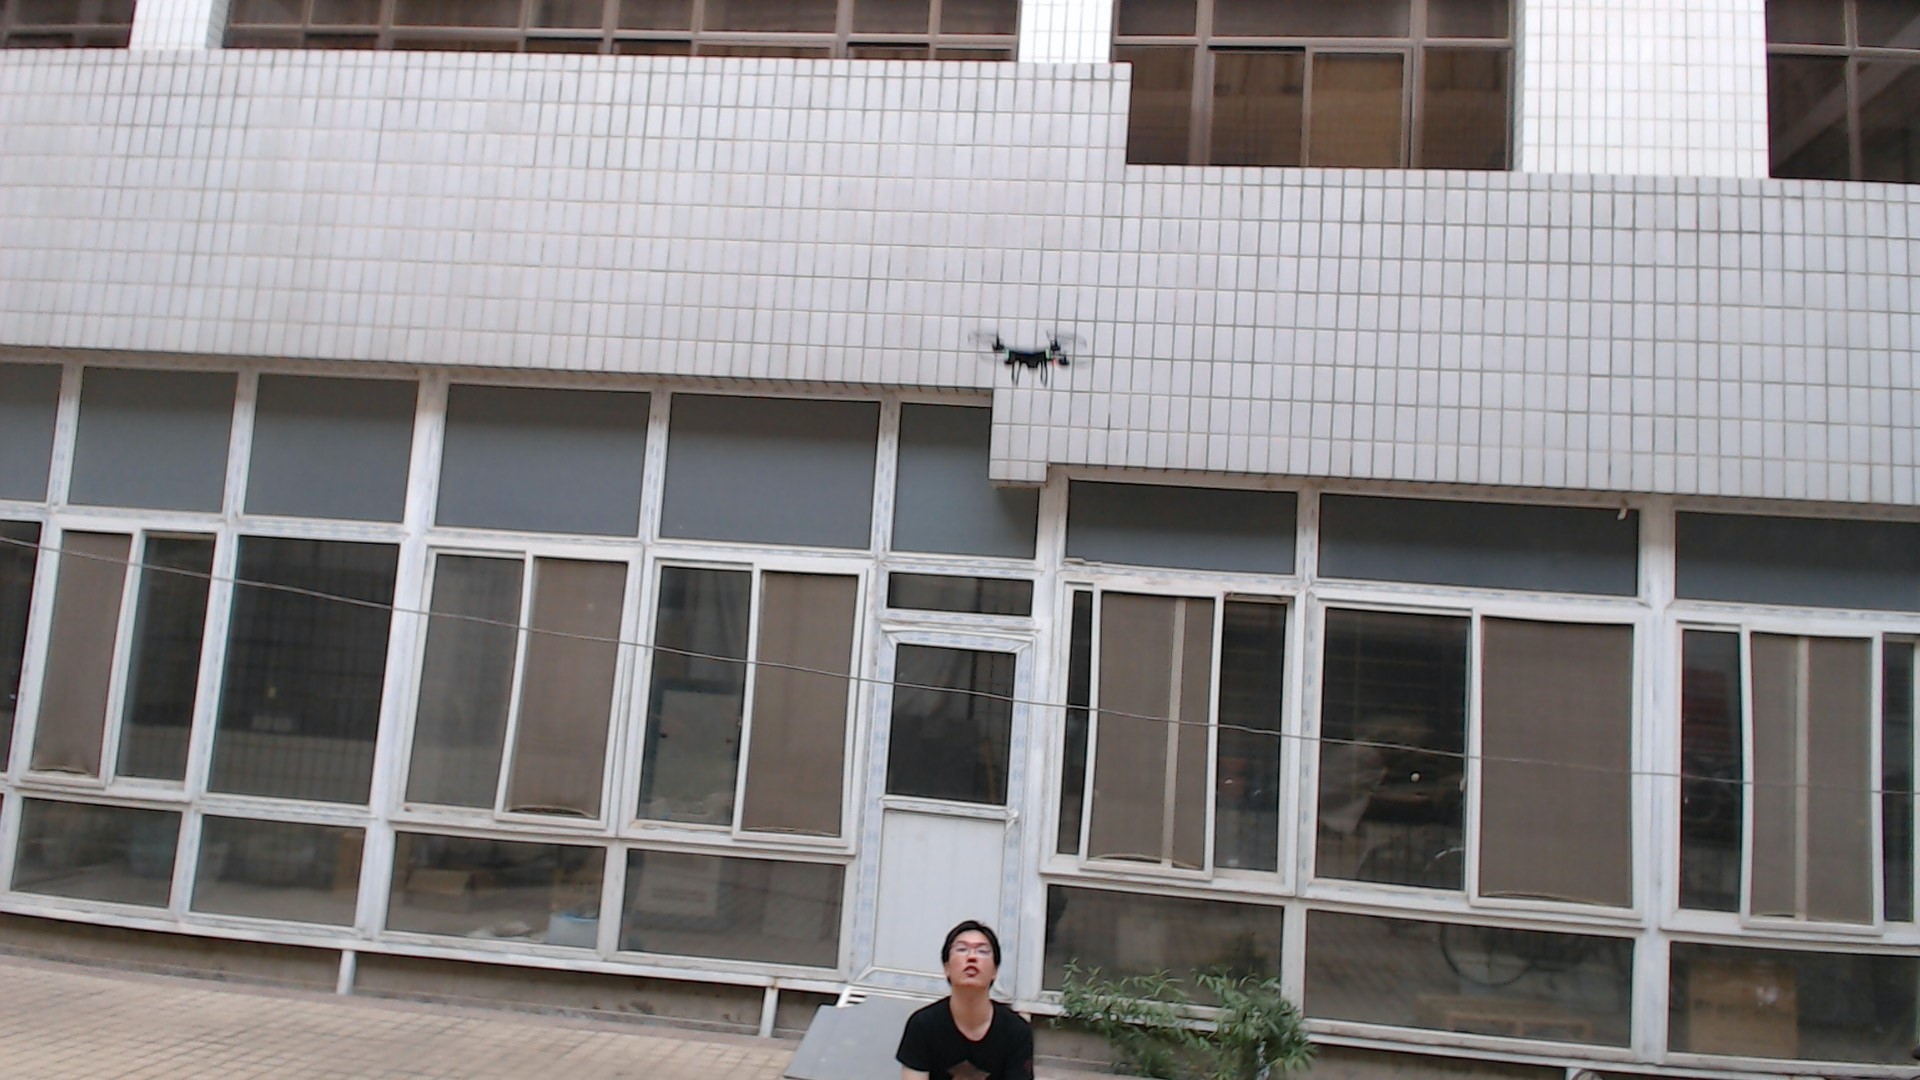drone: (930, 309, 1124, 403)
person: (899, 909, 1043, 1080)
